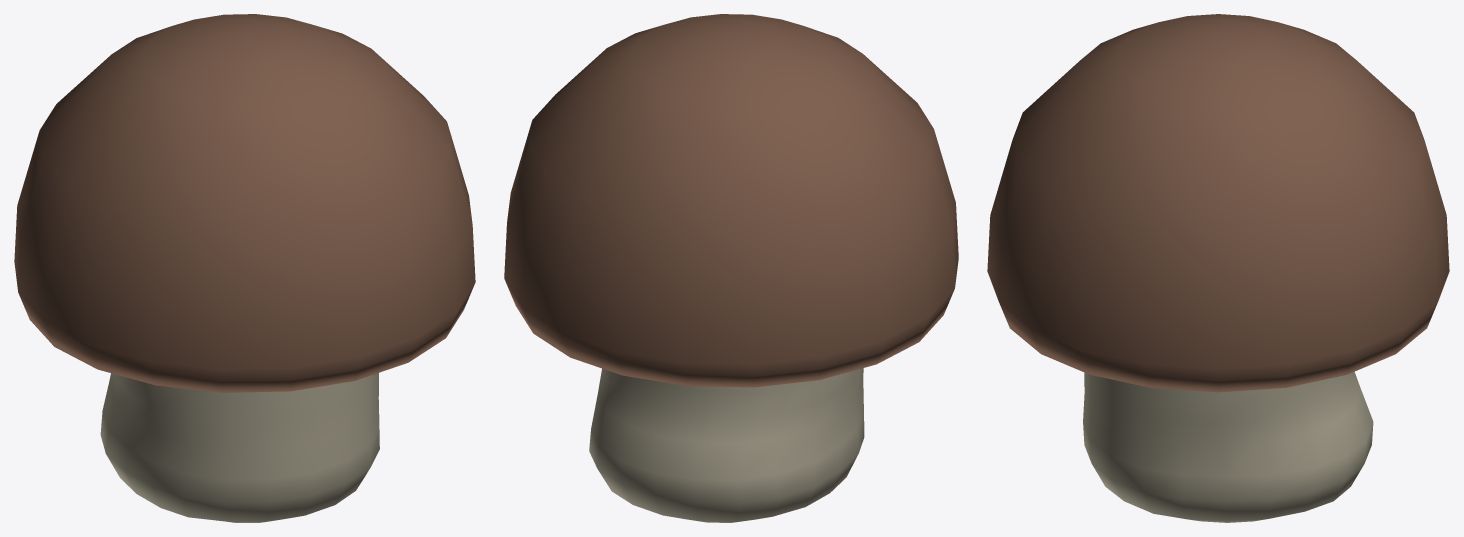
Rendered from mushroom_v4.fbx.
The picture shows the model from 3 angles, left to right: view 1: azimuth 30°, elevation 25°; view 2: azimuth 150°, elevation 25°; view 3: azimuth 270°, elevation 25°; orthographic projection.
Visible parts, largest first — view 1: pCylinder4; view 2: pCylinder4; view 3: pCylinder4.
Part boxes in pixels (bbox=[...]): pCylinder4: bbox=[14, 14, 475, 522]; pCylinder4: bbox=[504, 14, 958, 522]; pCylinder4: bbox=[987, 14, 1449, 522].
Size of the model in its own units: 772 by 772 by 860.
